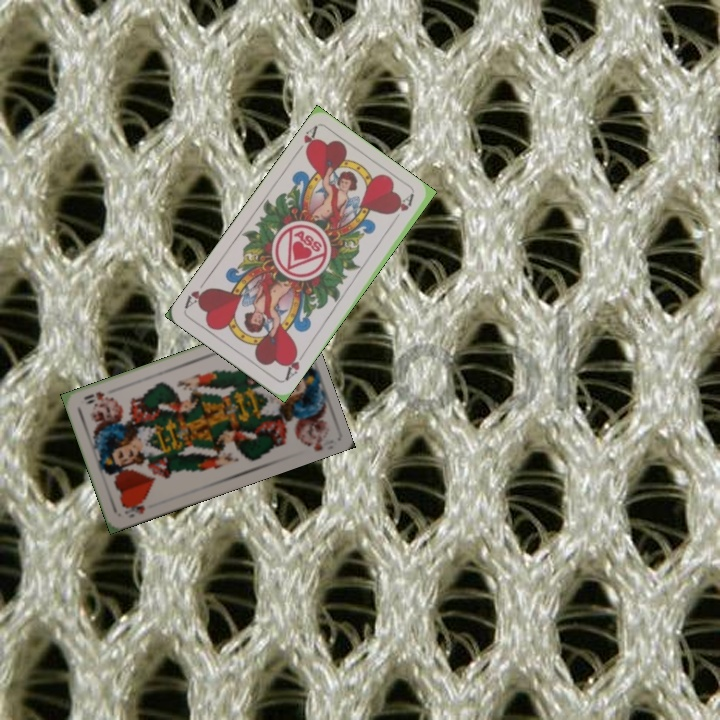HA: (291, 122, 320, 158), (281, 346, 308, 383)
HO: (118, 497, 147, 520)
